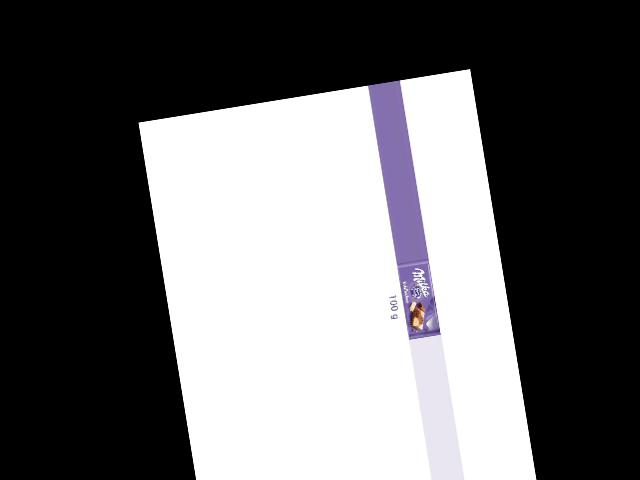chocolate: (395, 258, 441, 340)
